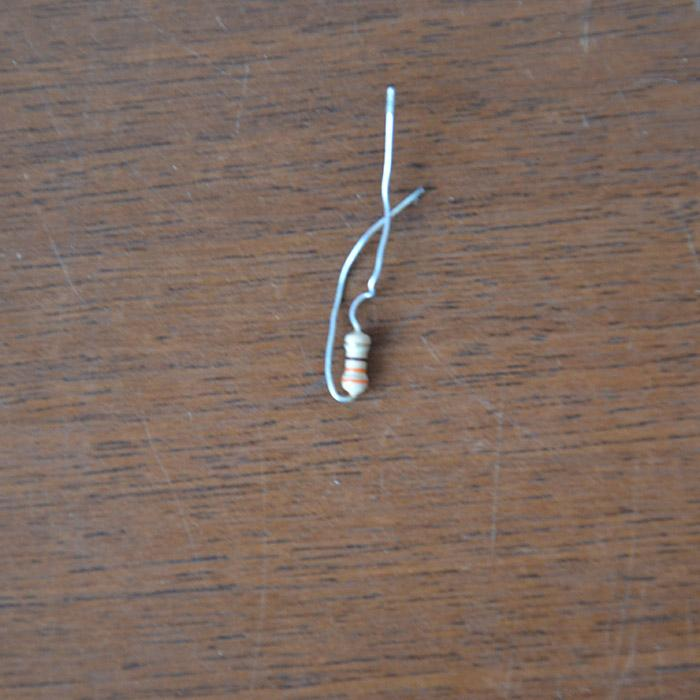resistor: (340, 329, 371, 397)
